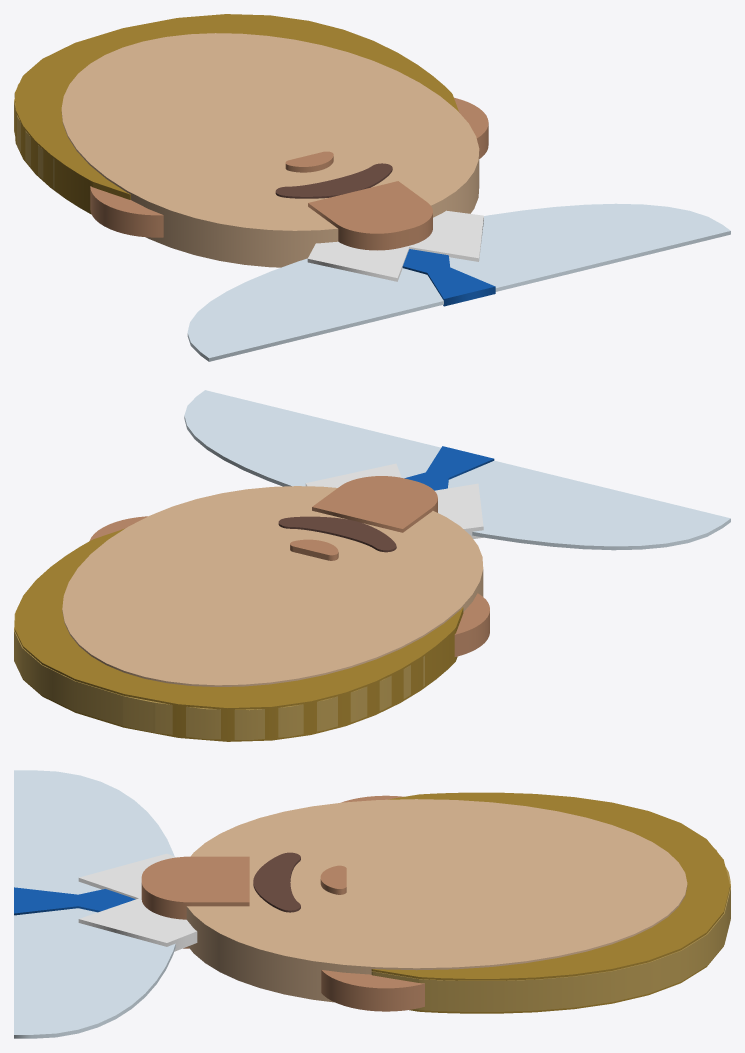
File: emoji_u1f468_1f3fc_200d_1f4bc.glb
3 views of the same model, one above another, from view 1: azimuth 30°, elevation 25°; view 2: azimuth 150°, elevation 25°; view 3: azimuth 270°, elevation 25° (orthographic). The views are drawn at different scales.
Visible parts, largest first — view 1: emoji_u1f468_1f3fc_200d_1f4bc; view 2: emoji_u1f468_1f3fc_200d_1f4bc; view 3: emoji_u1f468_1f3fc_200d_1f4bc.
Part boxes in pixels (left/top/right/bottom): emoji_u1f468_1f3fc_200d_1f4bc: left=14, top=14, right=730, bottom=361; emoji_u1f468_1f3fc_200d_1f4bc: left=14, top=390, right=730, bottom=741; emoji_u1f468_1f3fc_200d_1f4bc: left=14, top=770, right=730, bottom=1038.
Size of the model in its own units: 0.0294 by 0.0026 by 0.0336.
